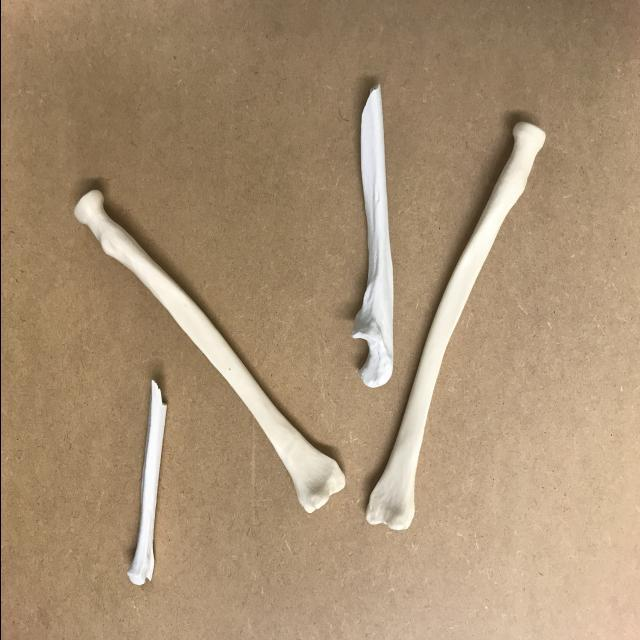bone: (70, 178, 348, 516), (362, 117, 548, 536), (352, 86, 397, 392), (120, 378, 176, 590)
